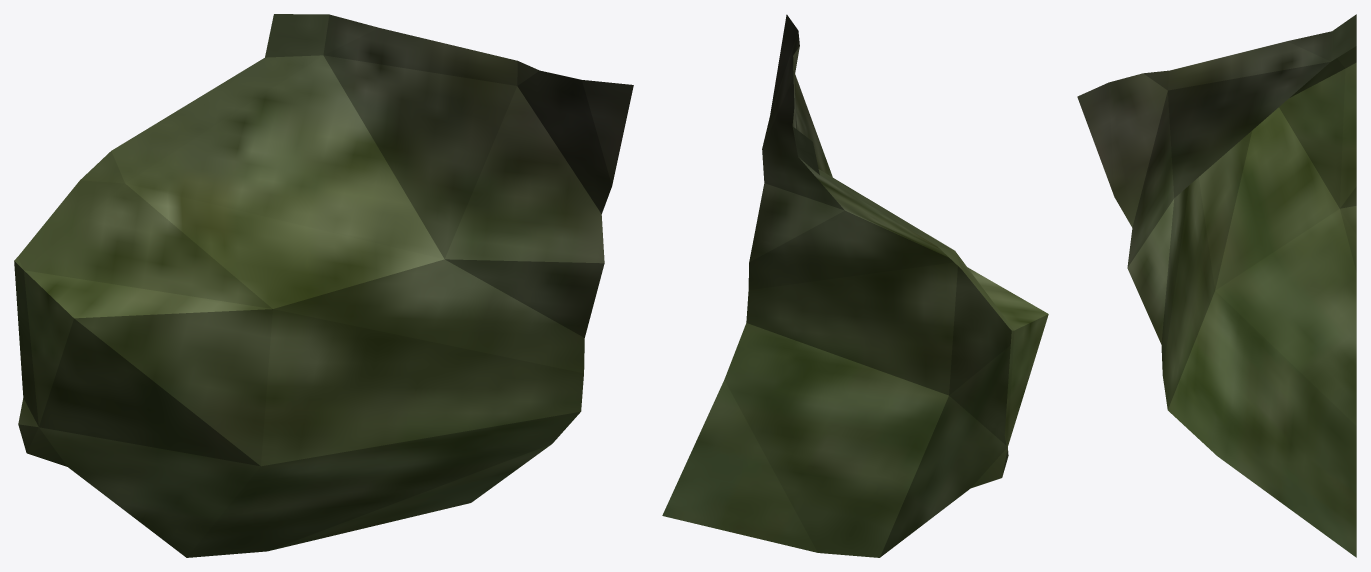
3 views of the same model, side by side, from view 1: azimuth 30°, elevation 25°; view 2: azimuth 150°, elevation 25°; view 3: azimuth 270°, elevation 25° (orthographic). The views are drawn at different scales.
Size of the model in its own units: 0.4457 by 0.5006 by 0.2749.
1 material, 1 textured.
